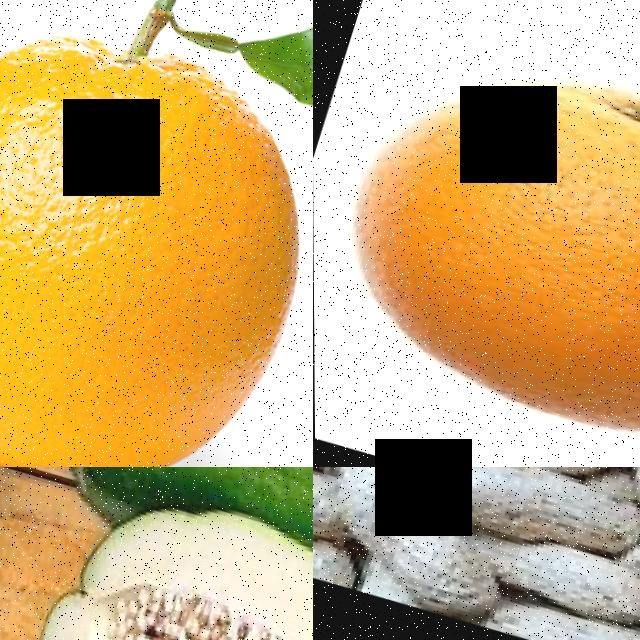orange: (313, 0, 640, 467), (0, 0, 313, 467)
pawpaw: (0, 492, 313, 640), (50, 467, 313, 640)
peanuts: (313, 467, 525, 634), (427, 467, 640, 570), (498, 527, 640, 640)
